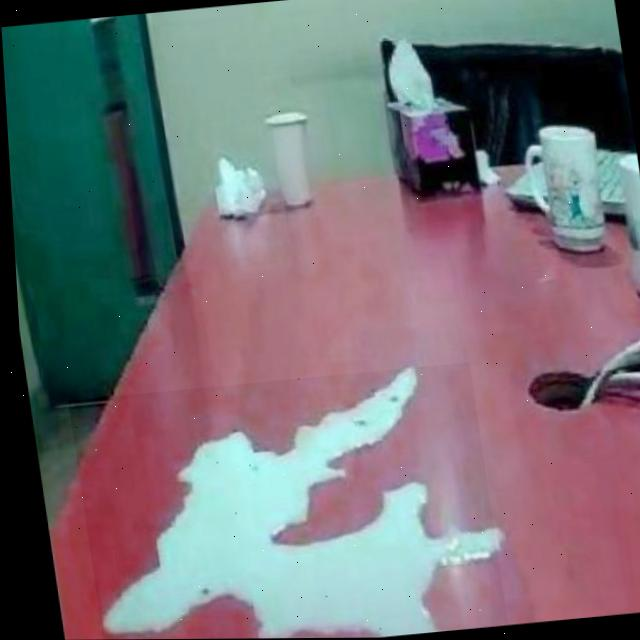spillage: (94, 369, 488, 639)
